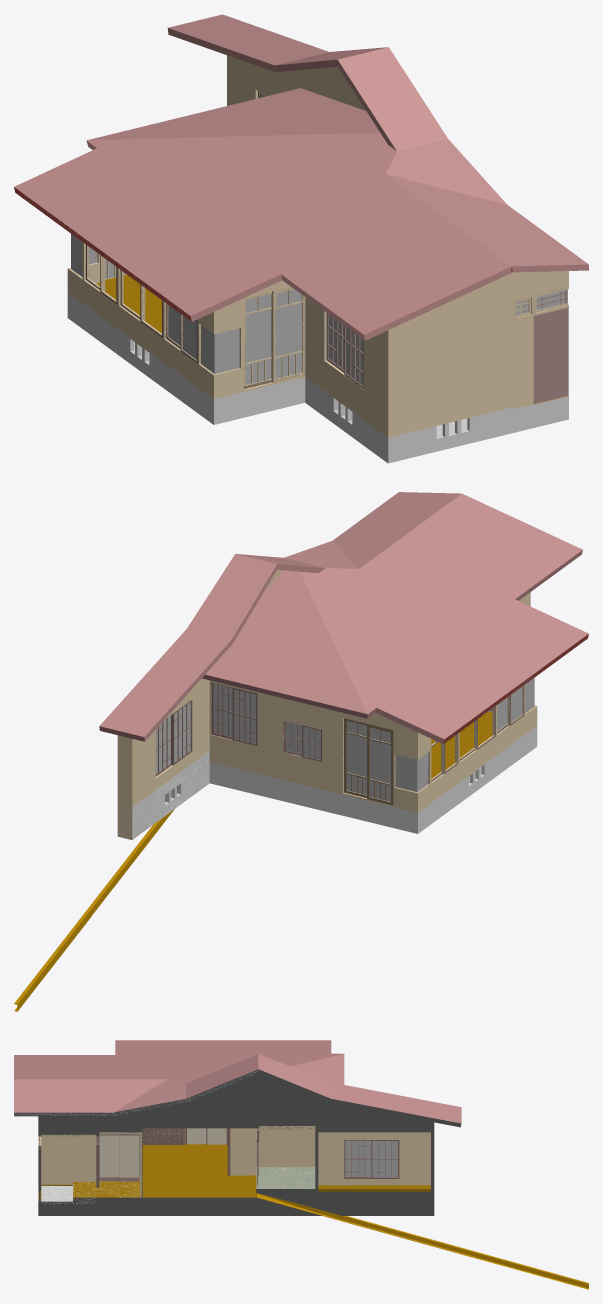
The model's file is cooltube.glb.
3 renders of one model, top to bottom at view 1: azimuth 30°, elevation 25°; view 2: azimuth 150°, elevation 25°; view 3: azimuth 270°, elevation 25°, orthographic. The views are drawn at different scales.
Visible parts, largest first — view 1: group_0.160, group_0.667, group_0.002, group_0.089, group_0.735, group_0.383, group_0.010, group_0.027, group_0.093, group_0.139, group_0.137, group_0.197 (+2 smaller); view 2: group_0.160, group_0.002, group_0.721, group_0.089, group_0.719, group_0.718, group_0.167, group_0.093, group_0.142, group_0.556, group_0.571, group_0.009 (+3 smaller); view 3: group_0.160, group_0.185, group_0.666, group_0.166, group_0.686, group_0.399, group_0.677, group_0.167, group_0.157, group_0.671, group_0.178, group_0.088 (+10 smaller).
Part boxes in pixels (bbox=[...]): group_0.160: bbox=[14, 14, 588, 340]; group_0.667: bbox=[392, 300, 533, 436]; group_0.002: bbox=[67, 55, 568, 437]; group_0.089: bbox=[67, 292, 568, 463]; group_0.735: bbox=[305, 297, 388, 437]; group_0.383: bbox=[533, 307, 568, 403]; group_0.010: bbox=[201, 325, 239, 373]; group_0.027: bbox=[244, 287, 305, 389]; group_0.093: bbox=[96, 275, 161, 332]; group_0.139: bbox=[245, 309, 271, 362]; group_0.137: bbox=[276, 303, 301, 356]; group_0.197: bbox=[14, 187, 191, 321]; group_0.160: bbox=[99, 492, 588, 743]; group_0.002: bbox=[117, 570, 537, 812]; group_0.721: bbox=[209, 680, 341, 794]; group_0.089: bbox=[341, 726, 537, 833]; group_0.719: bbox=[209, 762, 341, 815]; group_0.718: bbox=[132, 751, 209, 839]; group_0.167: bbox=[14, 809, 174, 1011]; group_0.093: bbox=[431, 712, 492, 778]; group_0.142: bbox=[395, 752, 428, 791]; group_0.556: bbox=[212, 682, 257, 745]; group_0.571: bbox=[155, 700, 192, 776]; group_0.009: bbox=[346, 733, 366, 777]; group_0.160: bbox=[14, 1040, 461, 1123]; group_0.185: bbox=[14, 1069, 461, 1215]; group_0.666: bbox=[142, 1144, 256, 1197]; group_0.166: bbox=[41, 1197, 321, 1215]; group_0.686: bbox=[318, 1132, 430, 1185]; group_0.399: bbox=[256, 1191, 430, 1215]; group_0.677: bbox=[41, 1136, 96, 1184]; group_0.167: bbox=[256, 1193, 588, 1289]; group_0.157: bbox=[259, 1129, 315, 1166]; group_0.671: bbox=[230, 1128, 256, 1175]; group_0.178: bbox=[258, 1167, 315, 1188]; group_0.088: bbox=[73, 1181, 140, 1197].
Bounding box in the file's own units: 10.75 × 11.76 × 27.79.
Materials: 18 (1 with a texture image).
